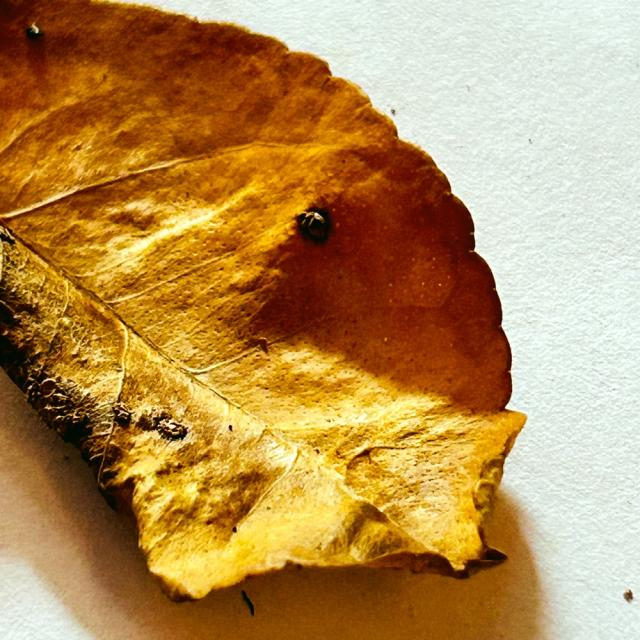DryLeaf_Lemon: (0, 0, 525, 600)
